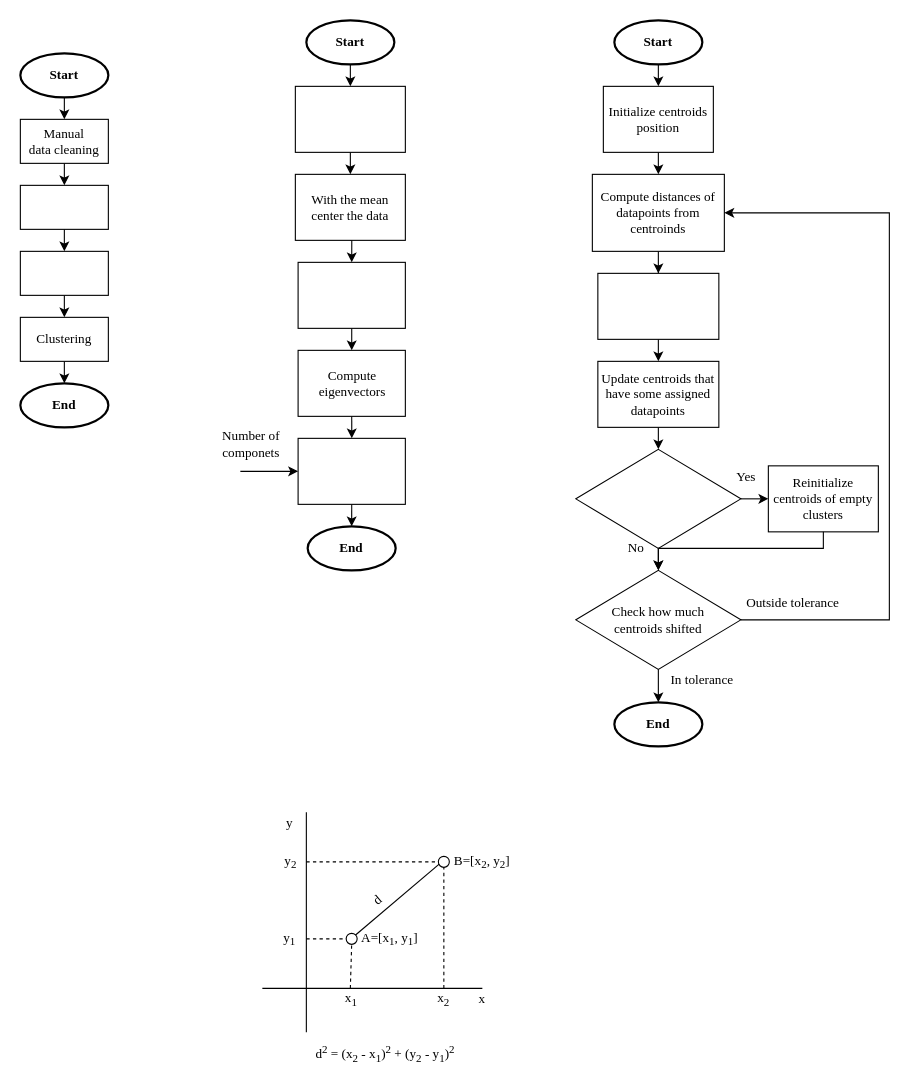
Some shapes in this 917 by 1084 pixel diagram are drawn without their labels. The shapes that lost their labels are listed below. From the top down, each one's box as (x1, y1, x2, y2) in pixels, then its label:
(294, 85, 405, 152): Compute mean value of each feature
(19, 184, 108, 229): Data preprocesing
(19, 250, 108, 295): Dimensionality reduction
(297, 261, 405, 328): Compute covariance matrix
(597, 272, 719, 339): Select the closest centrod (cluster)
(297, 437, 405, 504): Extract main components
(575, 448, 741, 548): Are there any empty clusters?
